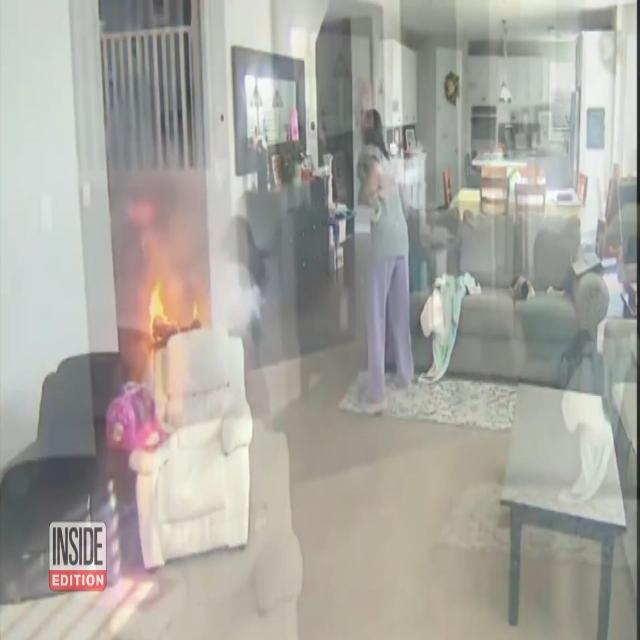fire: (149, 284, 170, 344), (194, 302, 198, 324)
